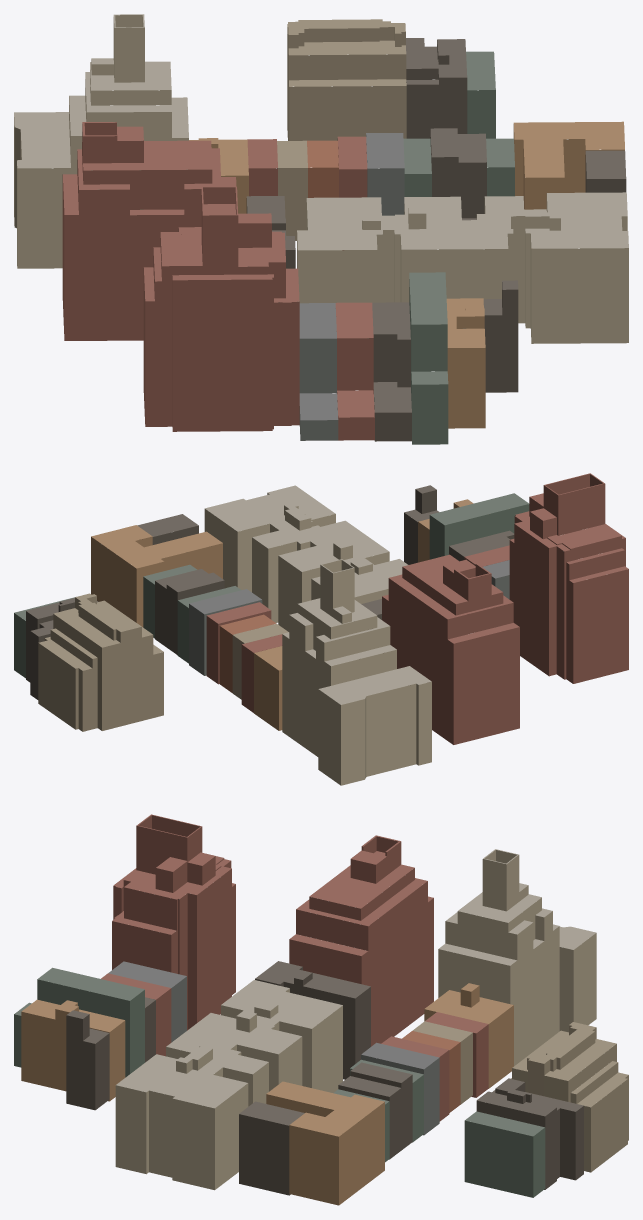
The model's file is tile-13_-14.glb.
3 renders of one model, top to bottom at view 1: azimuth 30°, elevation 25°; view 2: azimuth 150°, elevation 25°; view 3: azimuth 270°, elevation 25°, orthographic. The views are drawn at different scales.
Parts seen in each view (by area): view 1: wall, roof; view 2: wall, roof; view 3: wall, roof.
Boxes of the visible parts, x1,y1,x2,y2 form: wall: (14,15,628,444); roof: (14,14,628,420); wall: (14,474,628,785); roof: (14,473,628,704); wall: (14,815,628,1205); roof: (14,814,628,1136).
Bounding box in the file's own units: 137 × 51.66 × 147.
